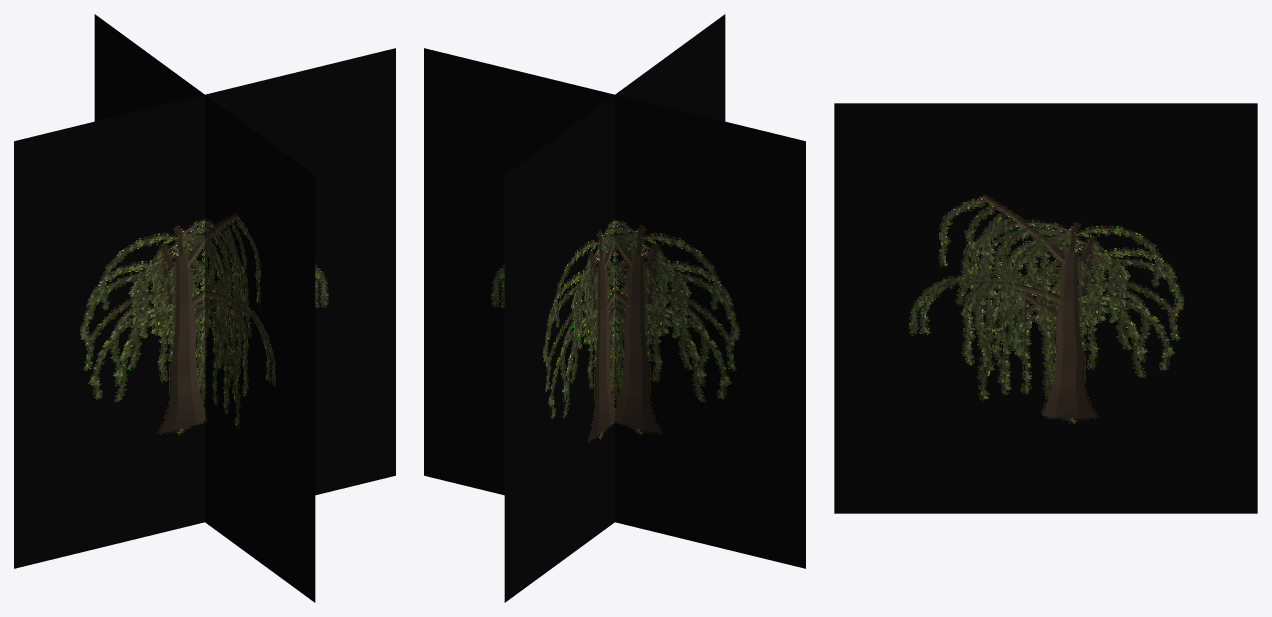
File: WeepingWillow.glb
The picture shows the model from 3 angles, left to right: view 1: azimuth 30°, elevation 25°; view 2: azimuth 150°, elevation 25°; view 3: azimuth 270°, elevation 25°; orthographic projection. The views are drawn at different scales.
Size of the model in its own units: 5.74 by 6.14 by 5.74.
Materials: 1 (1 with a texture image).
